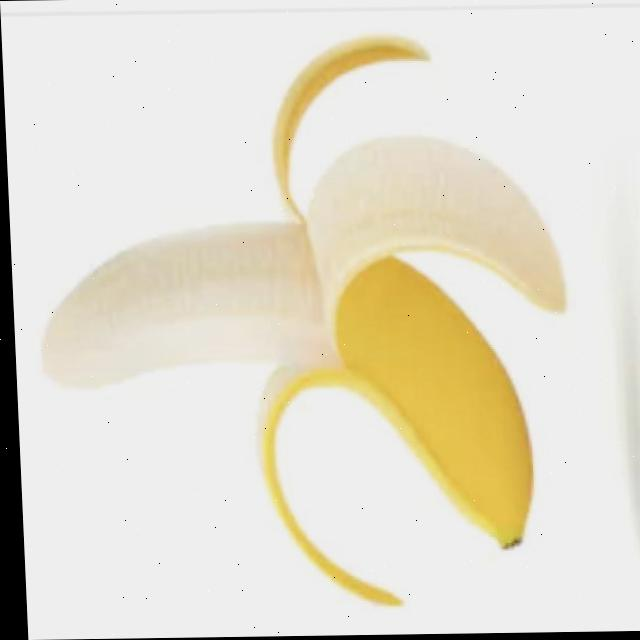banana: (32, 185, 554, 592)
